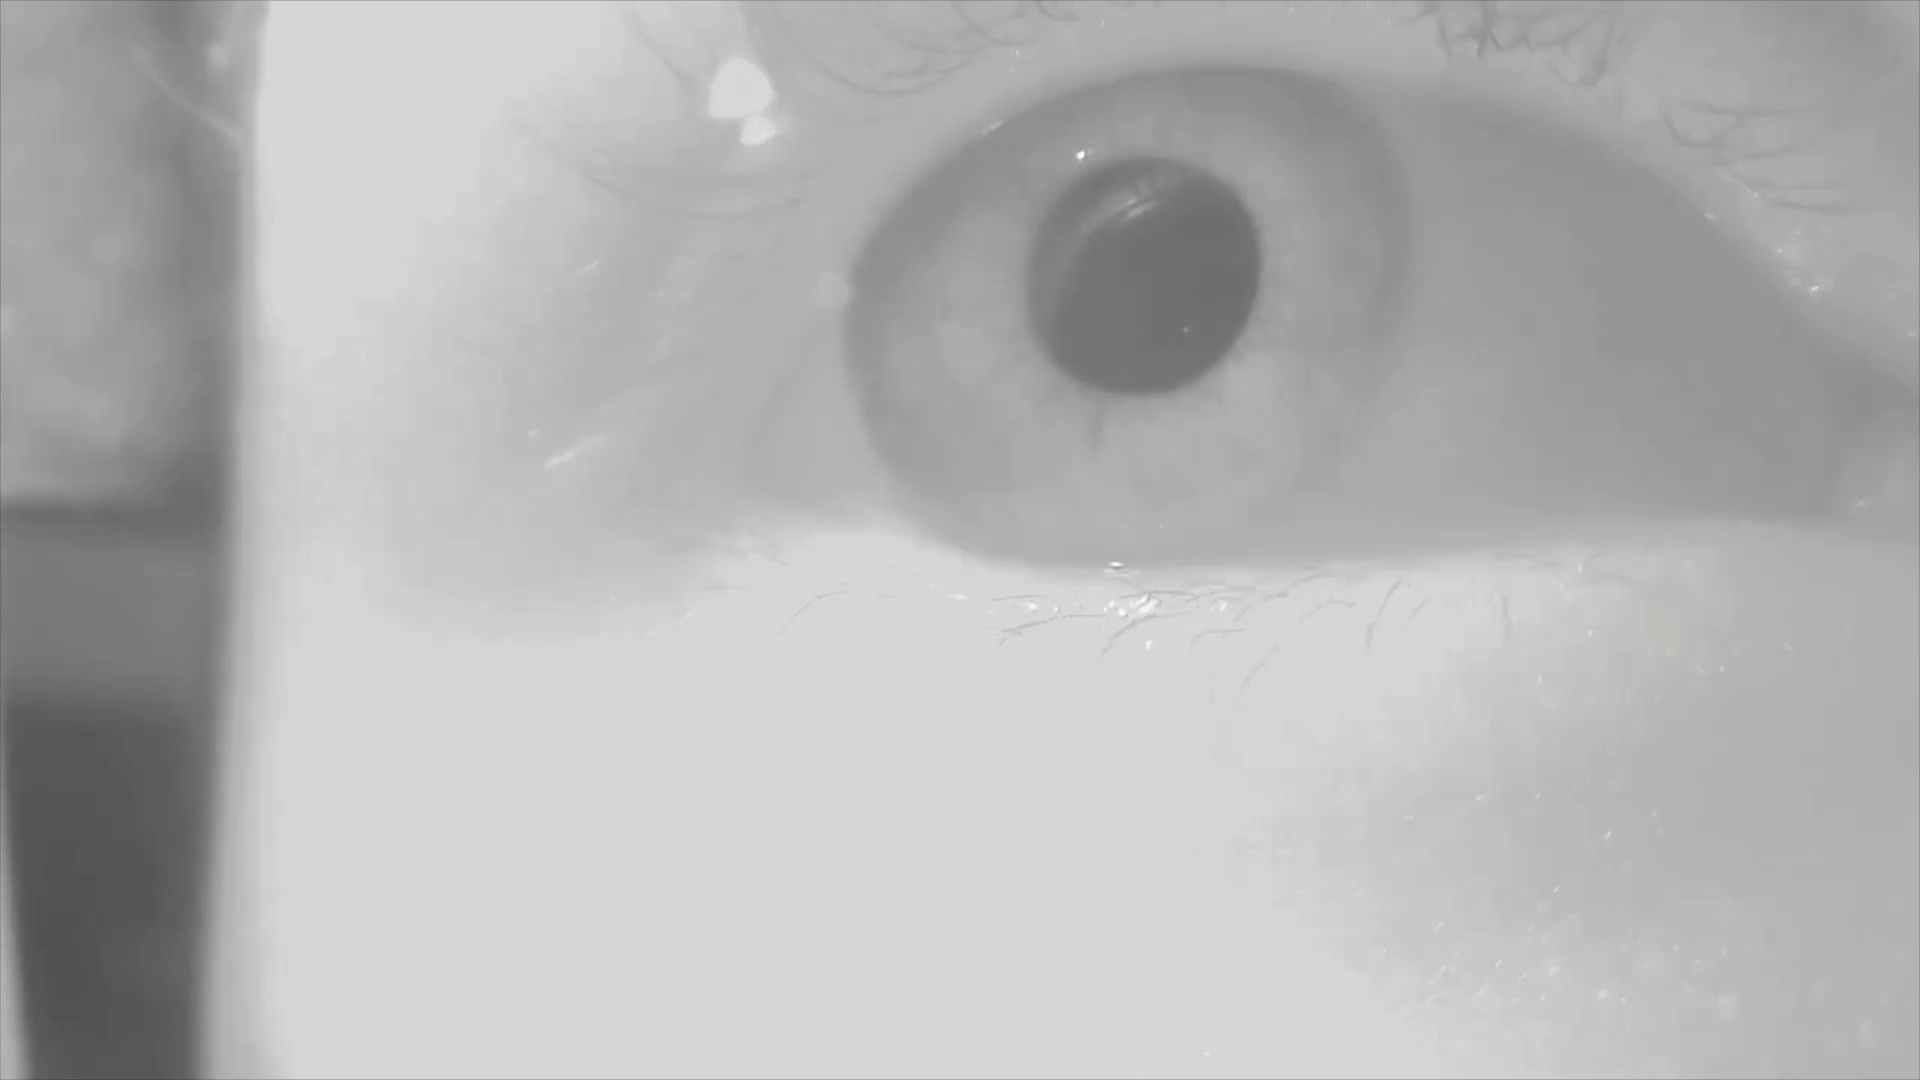pupil: (1029, 161, 1259, 394)
